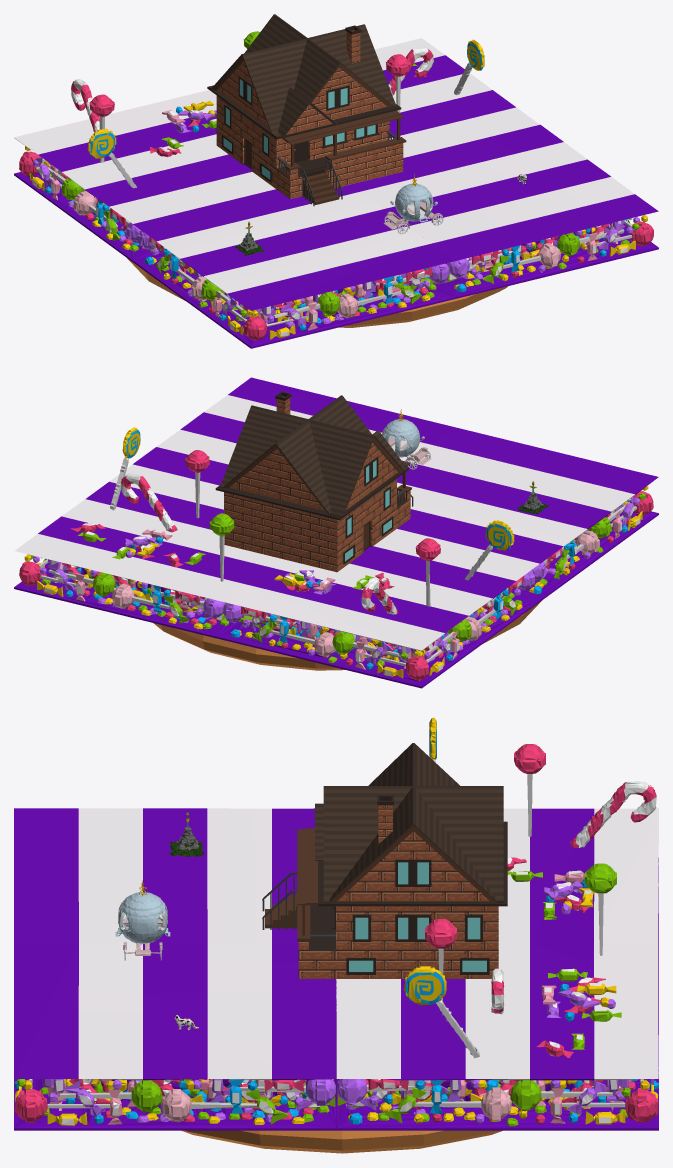
3 views of the same model, one above another, from view 1: azimuth 30°, elevation 25°; view 2: azimuth 150°, elevation 25°; view 3: azimuth 270°, elevation 25° (orthographic). The views are drawn at different scales.
Visible parts, largest first — view 1: TERRAIN_CANDY, Cube.469, VEHICLES_FANTASY_CARRIAGE, UNDERGROUND_PIZZA; view 2: TERRAIN_CANDY, Cube.469, UNDERGROUND_PIZZA, VEHICLES_FANTASY_CARRIAGE; view 3: TERRAIN_CANDY, Cube.469, UNDERGROUND_PIZZA, VEHICLES_FANTASY_CARRIAGE, OBJRANDOM_SWORD_IN_THE_STONE.
Boxes of the visible parts, x1,y1,x2,y2 form: TERRAIN_CANDY: (14, 31, 658, 348); Cube.469: (207, 14, 406, 206); VEHICLES_FANTASY_CARRIAGE: (383, 174, 443, 234); UNDERGROUND_PIZZA: (127, 258, 507, 327); TERRAIN_CANDY: (14, 377, 658, 688); Cube.469: (215, 391, 413, 572); UNDERGROUND_PIZZA: (153, 601, 541, 670); VEHICLES_FANTASY_CARRIAGE: (382, 409, 431, 469); TERRAIN_CANDY: (14, 717, 658, 1130); Cube.469: (262, 743, 507, 978); UNDERGROUND_PIZZA: (181, 1130, 502, 1153); VEHICLES_FANTASY_CARRIAGE: (115, 880, 170, 960); OBJRANDOM_SWORD_IN_THE_STONE: (168, 812, 203, 856).
Bounding box in the file's own units: 4059 × 1796 × 4000.
32 materials, 3 textured.
